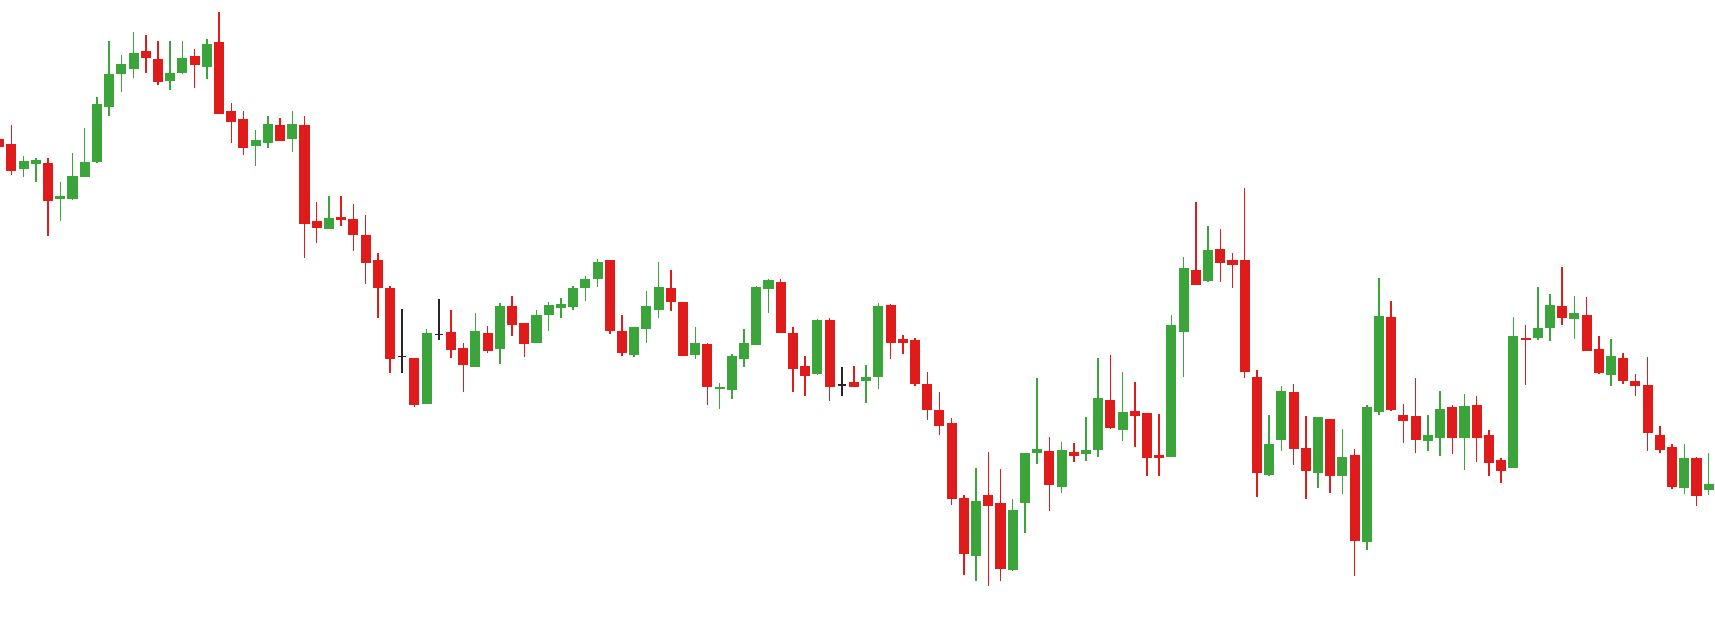sell: (126, 15, 226, 79), (810, 306, 897, 373)
